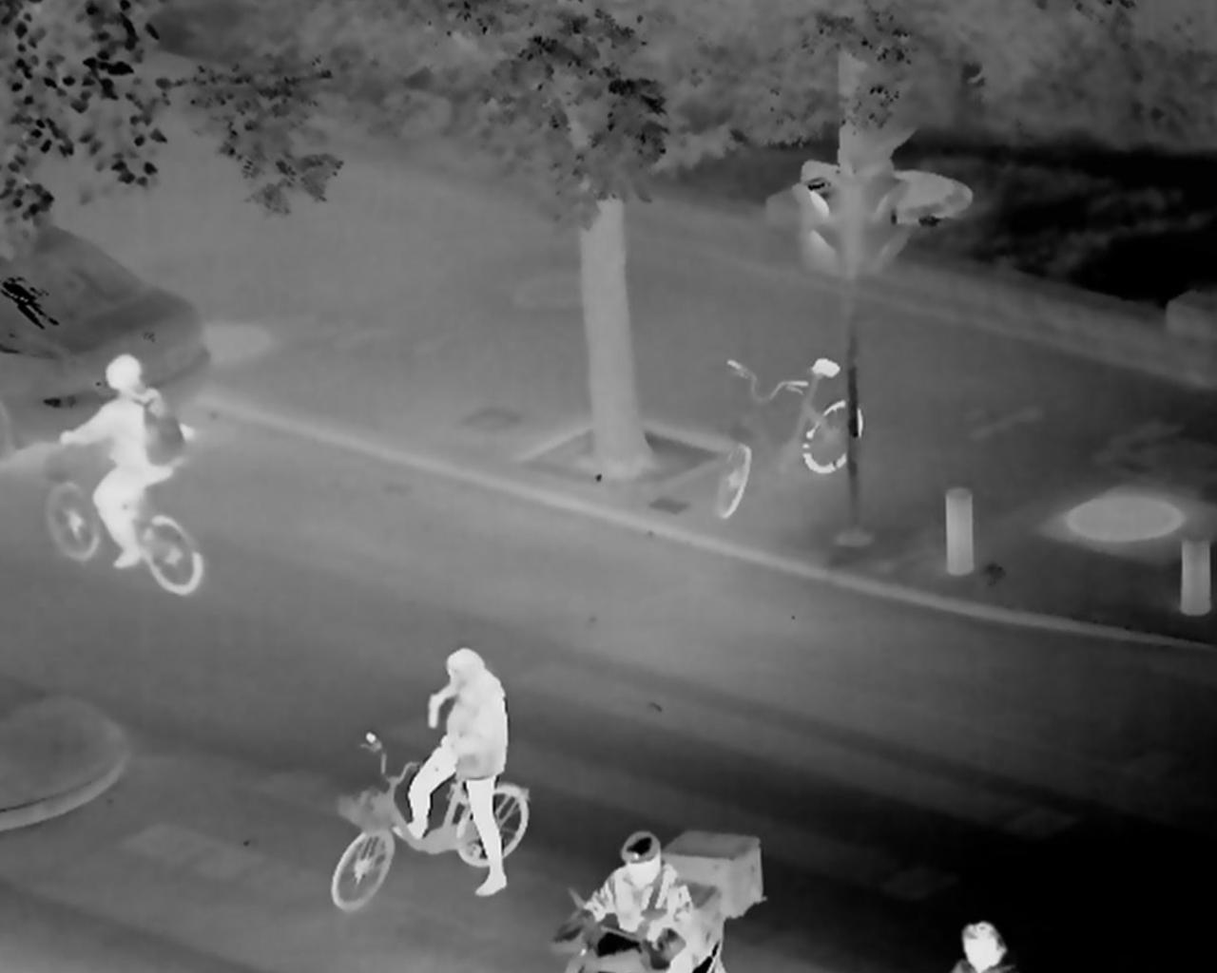person: (402, 648, 510, 906), (57, 351, 178, 573), (575, 835, 694, 973), (949, 923, 1008, 973)
